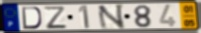1: (78, 5, 91, 30)
4: (158, 3, 179, 29)
8: (132, 4, 153, 29)
D: (21, 6, 44, 30)
N: (96, 3, 126, 30)
Z: (42, 5, 69, 30)
